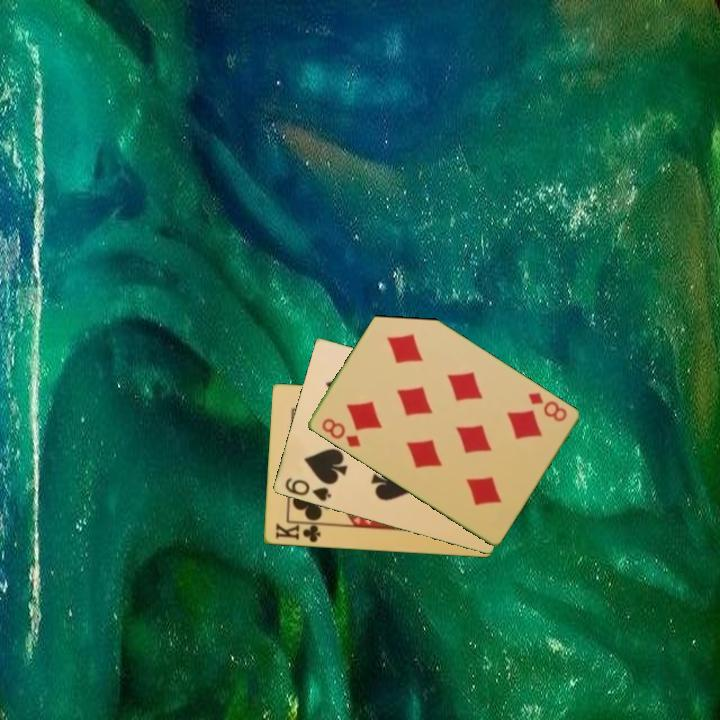6s: (281, 474, 334, 504)
8d: (524, 388, 570, 425), (318, 415, 363, 450)
Kc: (271, 519, 326, 546)
